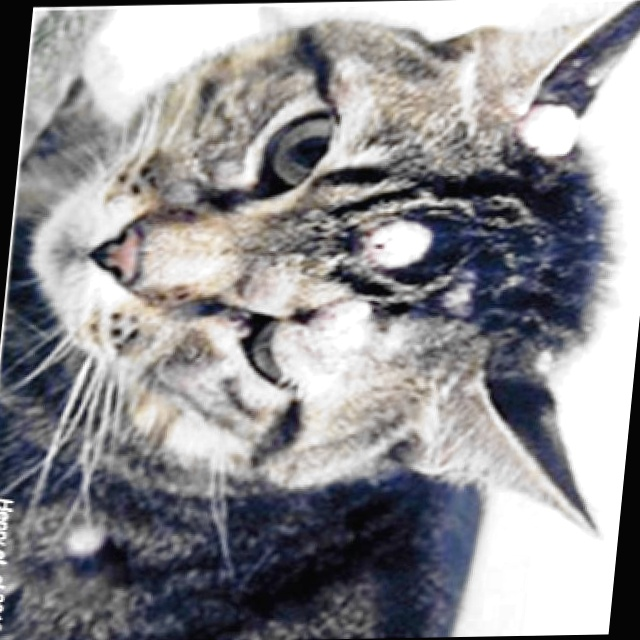lump_and_bump: (293, 296, 374, 383), (515, 101, 584, 165), (369, 224, 431, 267), (60, 529, 109, 557), (164, 184, 200, 207), (531, 354, 554, 377)
